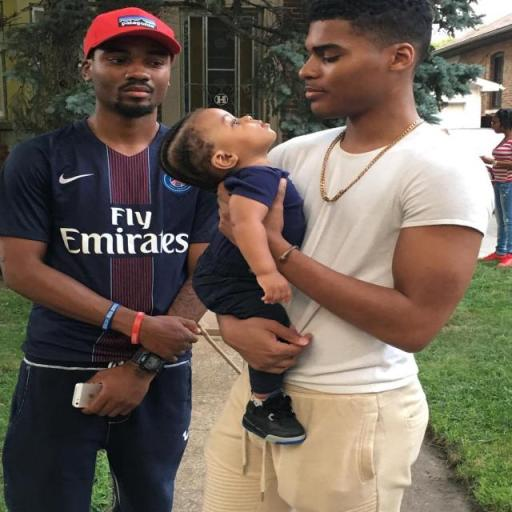Emirates: (58, 206, 192, 256)
